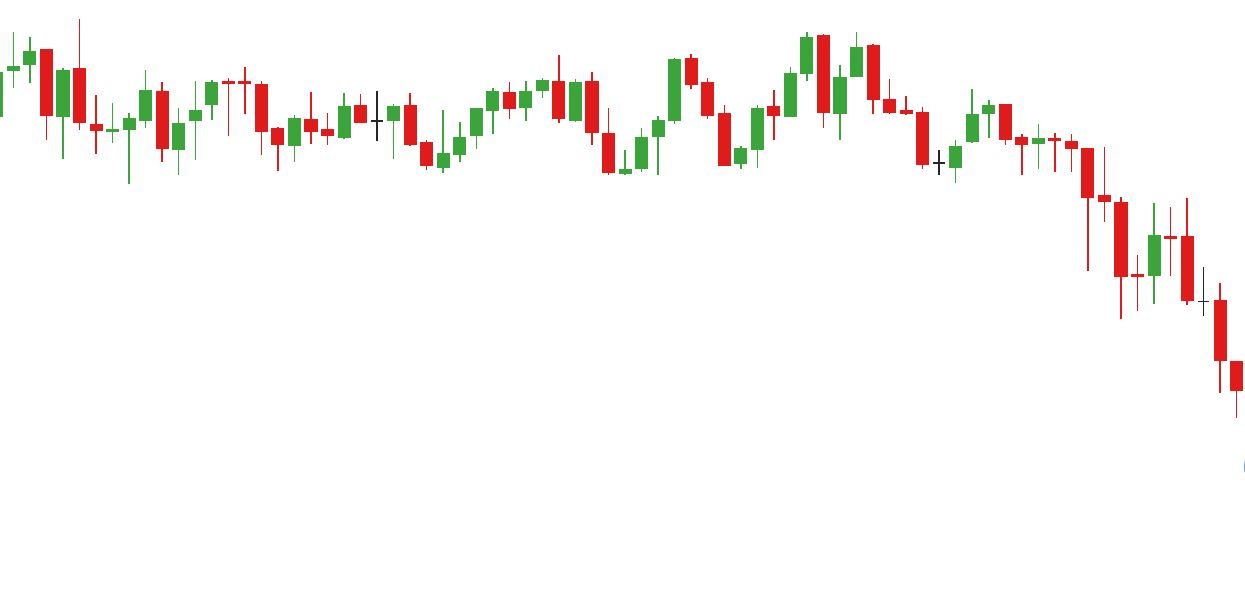sell: (666, 32, 831, 115)
